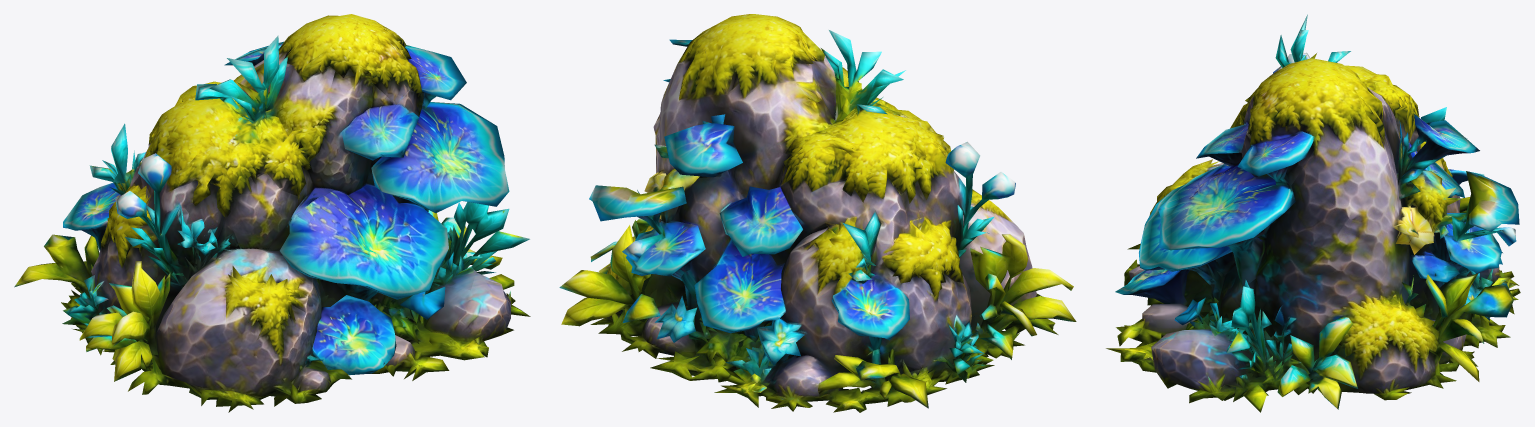
The model's file is ecos_liquen.glb.
The picture shows the model from 3 angles, left to right: view 1: azimuth 30°, elevation 25°; view 2: azimuth 150°, elevation 25°; view 3: azimuth 270°, elevation 25°; orthographic projection. The views are drawn at different scales.
Visible parts, largest first — view 1: tripo_part_1, tripo_part_2, tripo_part_0, tripo_part_10, tripo_part_12, tripo_part_11, tripo_part_15, tripo_part_16, tripo_part_3, tripo_part_17, tripo_part_6, tripo_part_14 (+5 smaller); view 2: tripo_part_1, tripo_part_0, tripo_part_10, tripo_part_12, tripo_part_5, tripo_part_7, tripo_part_9, tripo_part_14, tripo_part_6, tripo_part_20, tripo_part_11, tripo_part_17 (+4 smaller); view 3: tripo_part_1, tripo_part_2, tripo_part_0, tripo_part_12, tripo_part_3, tripo_part_7, tripo_part_4, tripo_part_10, tripo_part_20, tripo_part_15, tripo_part_22, tripo_part_23 (+5 smaller).
Part boxes in pixels (box(x1,y1,x2,y2)): tripo_part_1: box(91, 60, 513, 397); tripo_part_2: box(279, 45, 509, 301); tripo_part_0: box(14, 234, 530, 412); tripo_part_10: box(145, 81, 326, 218); tripo_part_12: box(278, 14, 422, 104); tripo_part_11: box(115, 153, 239, 285); tripo_part_15: box(312, 295, 396, 375); tripo_part_16: box(224, 266, 305, 355); tripo_part_3: box(428, 202, 529, 274); tripo_part_17: box(209, 35, 288, 121); tripo_part_6: box(63, 182, 120, 250); tripo_part_14: box(101, 185, 157, 268); tripo_part_1: box(606, 56, 1036, 400); tripo_part_0: box(559, 225, 1076, 412); tripo_part_10: box(780, 88, 953, 203); tripo_part_12: box(677, 14, 824, 101); tripo_part_5: box(694, 239, 785, 342); tripo_part_7: box(589, 185, 705, 277); tripo_part_9: box(719, 186, 802, 256); tripo_part_14: box(882, 216, 963, 296); tripo_part_6: box(831, 279, 909, 350); tripo_part_20: box(664, 123, 742, 177); tripo_part_11: box(945, 141, 1015, 257); tripo_part_17: box(821, 30, 905, 121); tripo_part_1: box(1129, 87, 1505, 393); tripo_part_2: box(1139, 124, 1316, 300); tripo_part_0: box(1106, 197, 1520, 412); tripo_part_12: box(1245, 58, 1385, 151); tripo_part_3: box(1226, 280, 1357, 409); tripo_part_7: box(1444, 171, 1519, 272); tripo_part_4: box(1393, 120, 1465, 261); tripo_part_10: box(1230, 51, 1419, 143); tripo_part_20: box(1406, 114, 1479, 171); tripo_part_15: box(1115, 269, 1189, 305); tripo_part_22: box(1142, 303, 1197, 333); tripo_part_23: box(1410, 255, 1459, 282).
Size of the model in its own units: 0.9815 by 0.646 by 0.8582.
Materials: 28 (28 with a texture image).
